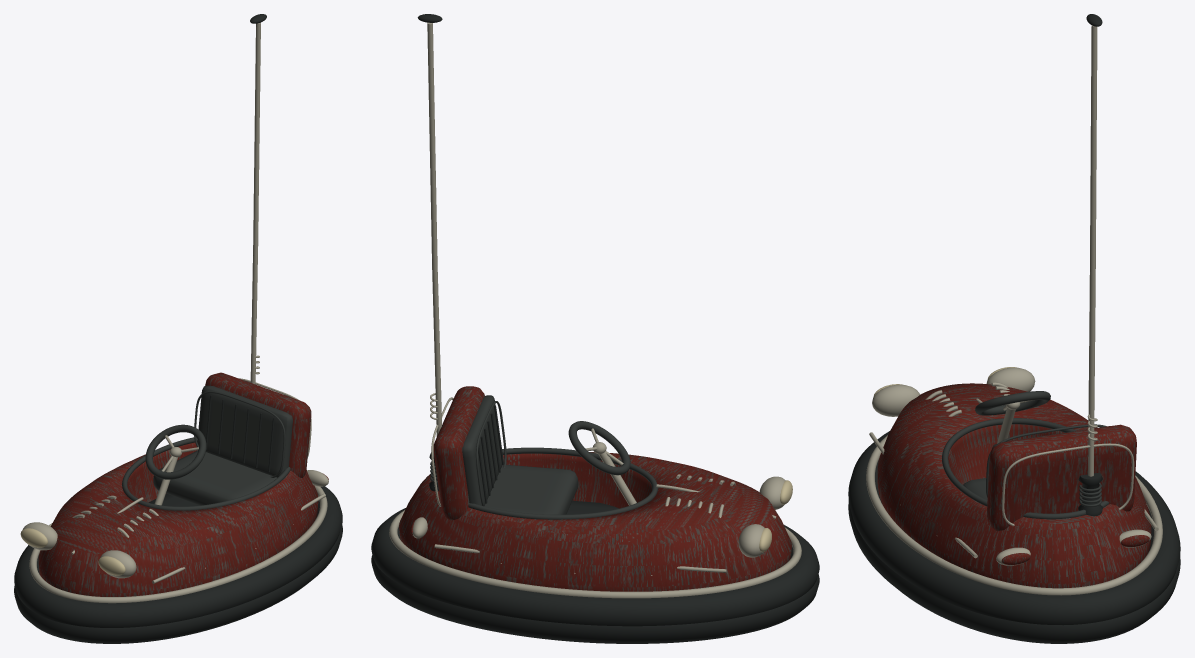
File: SM_BumperCar_8c0ab62bb2.fbx
The picture shows the model from 3 angles, left to right: view 1: azimuth 30°, elevation 25°; view 2: azimuth 150°, elevation 25°; view 3: azimuth 270°, elevation 25°; orthographic projection. The views are drawn at different scales.
Visible parts, largest first — view 1: SM_BumperCar_8c0ab62bb2; view 2: SM_BumperCar_8c0ab62bb2; view 3: SM_BumperCar_8c0ab62bb2.
Boxes of the visible parts, box(x1,y1,x2,y2) form: SM_BumperCar_8c0ab62bb2: box(14, 14, 342, 643); SM_BumperCar_8c0ab62bb2: box(371, 14, 819, 643); SM_BumperCar_8c0ab62bb2: box(848, 14, 1180, 643).
Size of what is drawn, in the model's own units: 260 by 187 by 373.
Materials: 6 (2 with a texture image).
